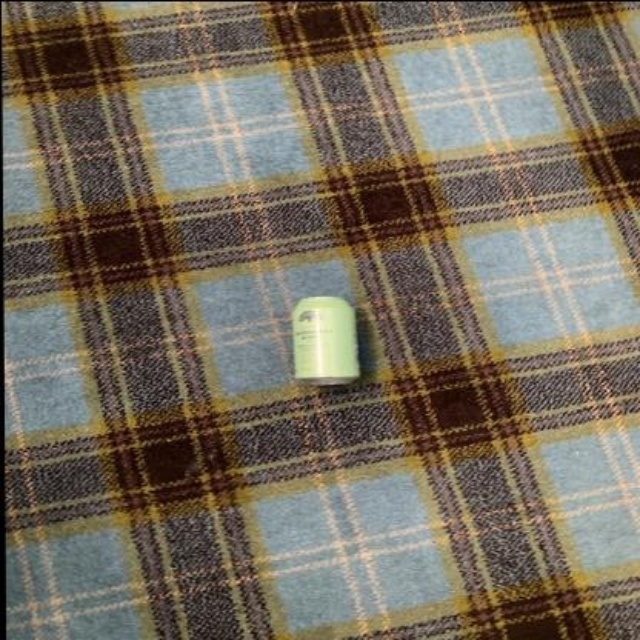trash: (292, 297, 358, 383)
